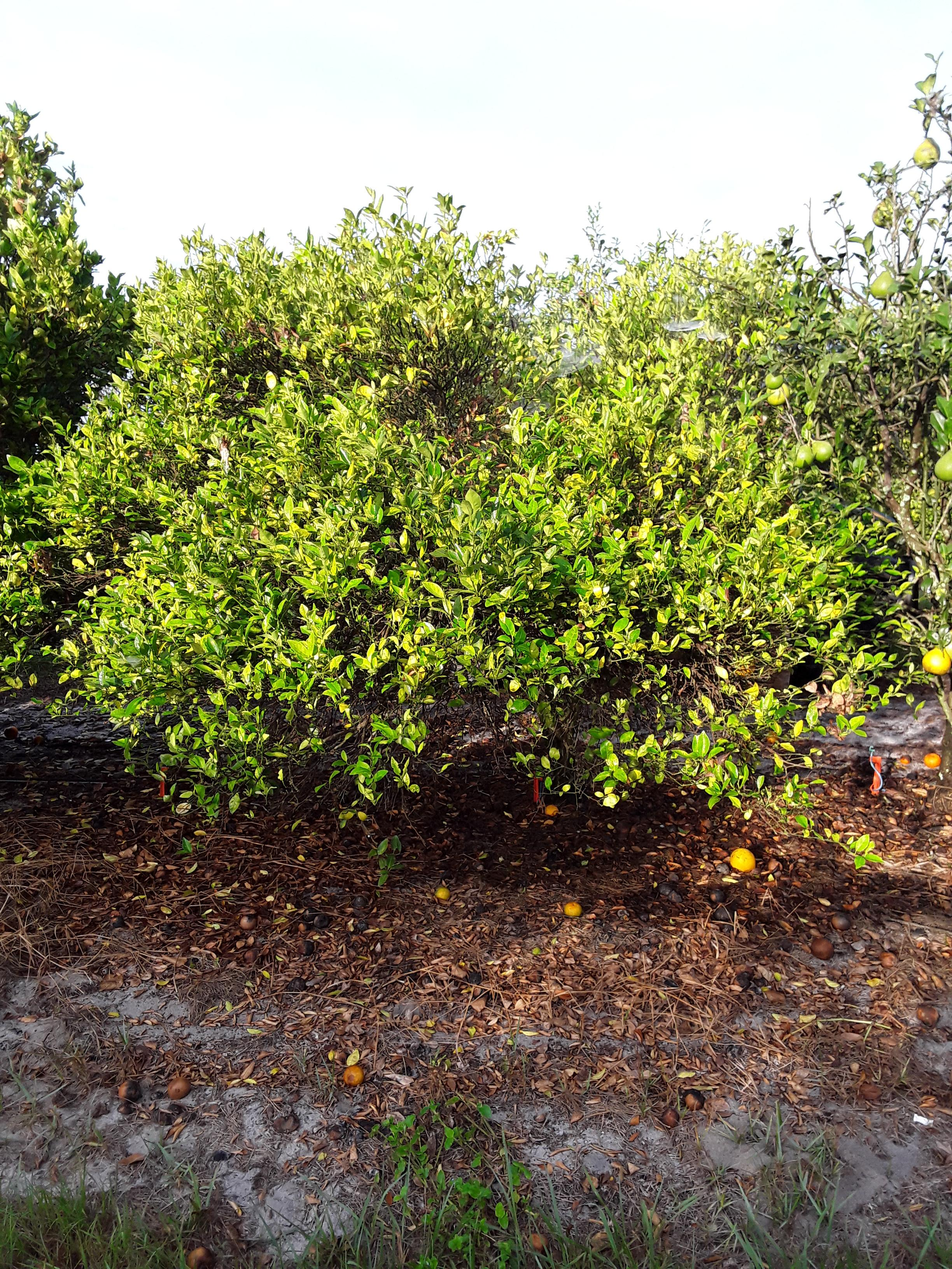fruit_on_ground: (907, 133, 945, 173), (865, 191, 904, 228), (922, 641, 952, 678), (869, 270, 900, 302), (931, 446, 952, 480), (731, 652, 757, 678), (764, 383, 796, 403), (810, 438, 835, 463), (794, 442, 815, 469), (765, 372, 786, 391)
fruit_on_tree: (915, 1005, 946, 1037), (164, 1074, 198, 1103), (113, 1080, 144, 1106), (729, 846, 754, 876), (187, 1245, 217, 1269), (828, 905, 851, 935), (525, 1227, 552, 1252), (682, 1089, 710, 1113), (657, 1108, 684, 1130), (813, 937, 835, 963), (341, 1068, 368, 1089), (878, 946, 898, 972), (560, 899, 583, 921), (239, 912, 261, 933), (433, 884, 456, 904), (524, 966, 546, 985), (711, 907, 737, 923), (732, 973, 752, 992), (923, 752, 944, 770), (735, 961, 756, 979), (287, 975, 308, 993), (760, 728, 780, 745), (665, 888, 686, 904), (298, 941, 316, 957), (708, 889, 727, 904), (313, 913, 331, 928), (468, 969, 483, 986), (298, 923, 316, 936), (301, 909, 321, 920), (352, 897, 369, 909), (544, 804, 560, 816), (658, 882, 672, 894), (637, 909, 649, 922), (474, 904, 486, 915), (355, 921, 368, 931), (898, 754, 912, 762)
